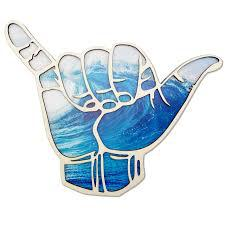subscribe-to-tem: (4, 21, 222, 198)
